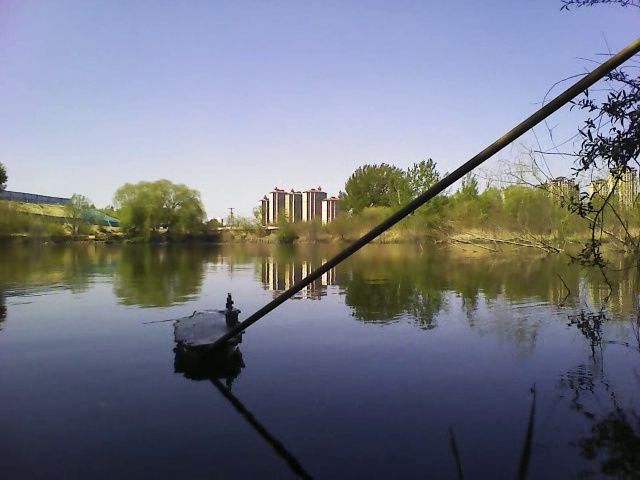aircraft_carrier: (170, 299, 250, 372)
